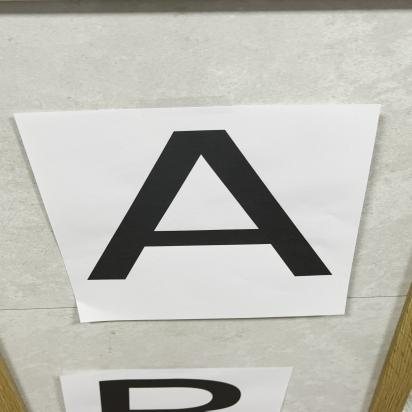seat: (70, 110, 365, 284)
